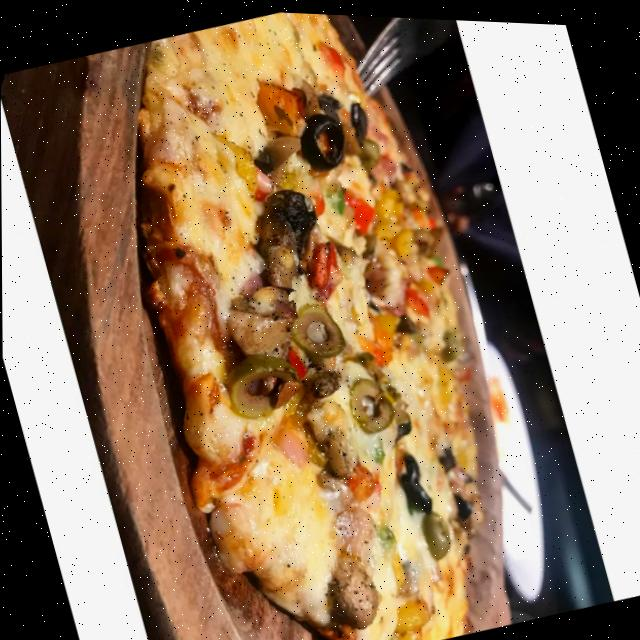black_olives: (295, 105, 349, 173), (388, 443, 436, 518), (339, 93, 375, 147), (447, 481, 476, 520), (313, 81, 344, 116), (433, 439, 462, 472), (389, 306, 417, 335), (388, 411, 413, 439)
green_olives: (218, 343, 308, 426), (284, 292, 350, 363), (341, 367, 400, 435), (415, 499, 458, 559), (432, 323, 464, 361), (353, 133, 385, 170)
mushrooms: (237, 174, 340, 297), (216, 268, 311, 367), (313, 541, 389, 633), (301, 387, 368, 491), (245, 125, 313, 178), (297, 352, 345, 403)
pizza: (73, 3, 548, 640)
